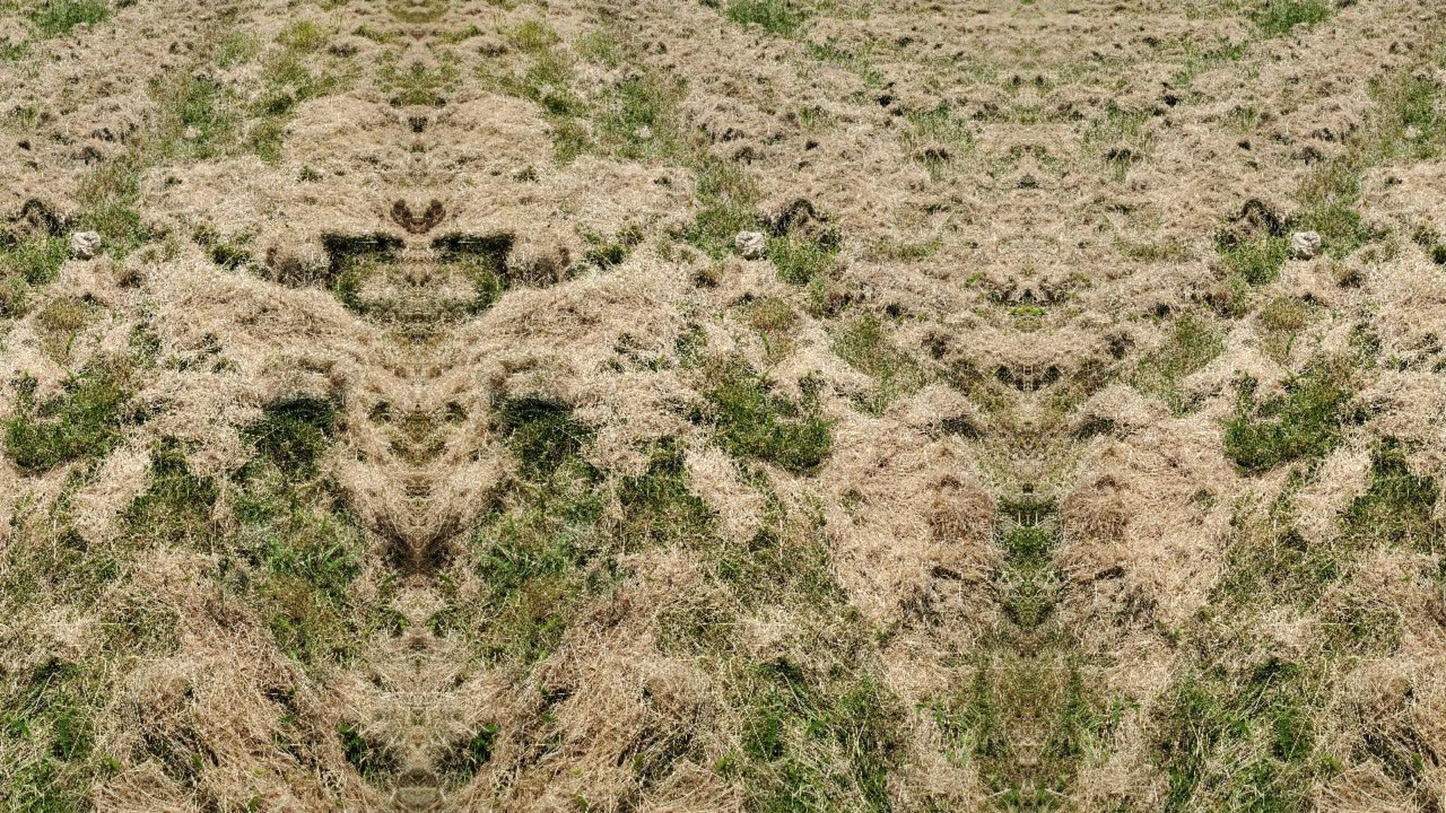rock: (1290, 230, 1321, 257), (735, 230, 765, 257), (70, 231, 99, 257)
